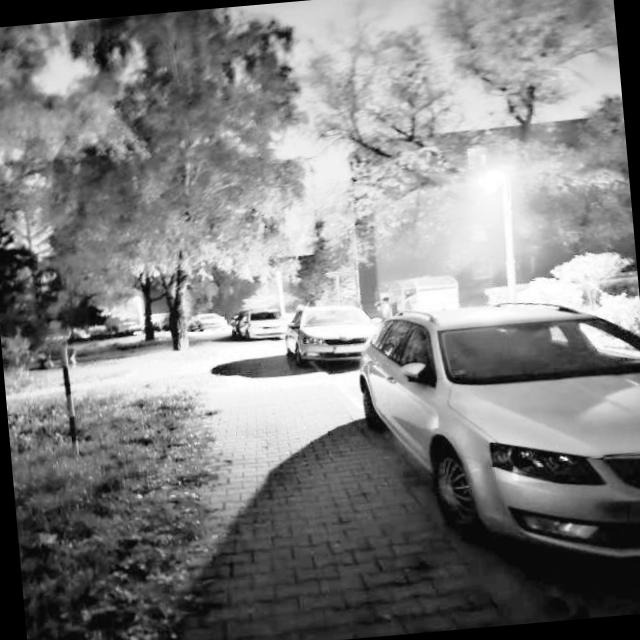Light: (483, 172, 522, 302)
